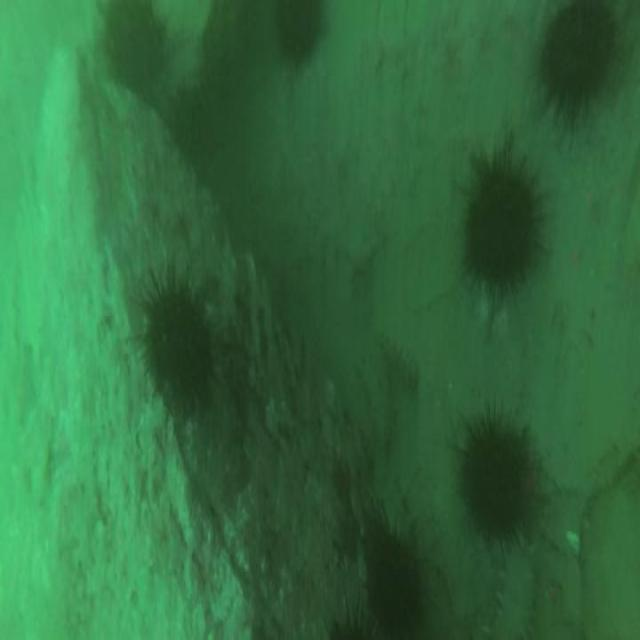echinus: (466, 166, 538, 289), (464, 425, 533, 545), (142, 291, 212, 409), (545, 3, 612, 114), (364, 528, 419, 635), (106, 5, 162, 91), (275, 1, 320, 64)
holothurian: (494, 553, 534, 640), (380, 334, 420, 391)
